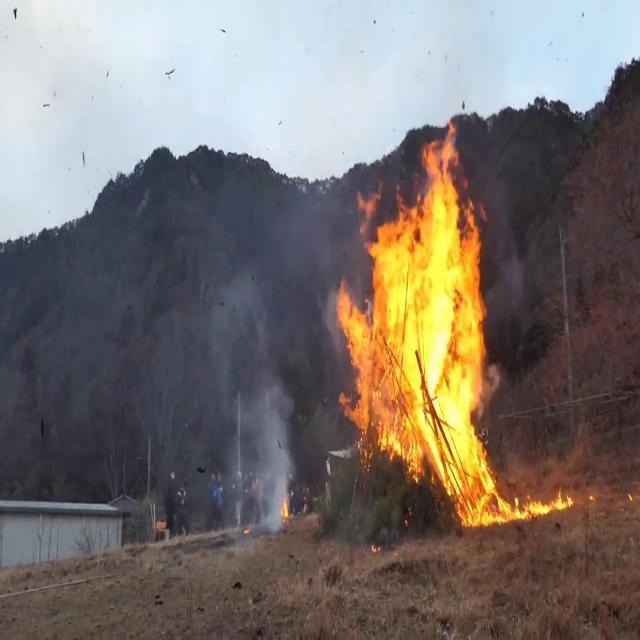Fire: (335, 128, 501, 524), (508, 478, 578, 526)
Smoke: (86, 121, 344, 520)
